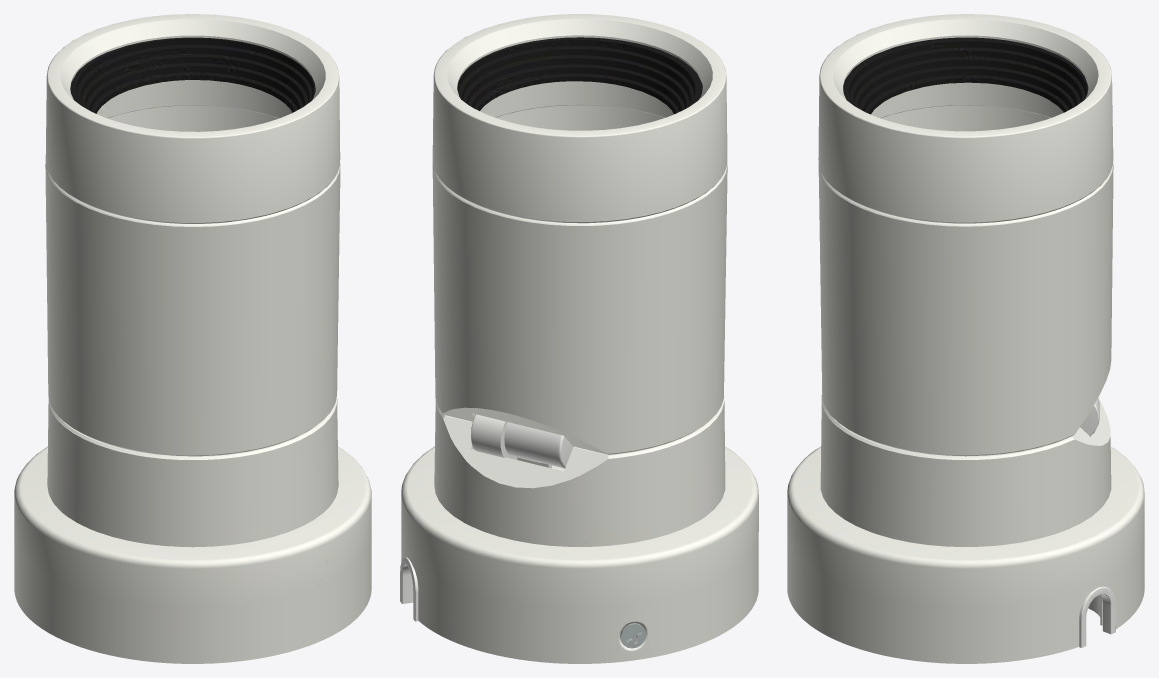
Rendered from nymane_reflektor_sufitowy_00424787.glb.
3 views of the same model, side by side, from view 1: azimuth 30°, elevation 25°; view 2: azimuth 150°, elevation 25°; view 3: azimuth 270°, elevation 25° (orthographic).
Parts seen in each view (by area): view 1: nymane_reflektor_sufitowy_00424787; view 2: nymane_reflektor_sufitowy_00424787; view 3: nymane_reflektor_sufitowy_00424787.
Part boxes in pixels (<box>): nymane_reflektor_sufitowy_00424787: <box>14,14,371,663</box>; nymane_reflektor_sufitowy_00424787: <box>400,14,758,663</box>; nymane_reflektor_sufitowy_00424787: <box>787,14,1144,663</box>.
Bounding box in the file's own units: 0.08 × 0.1268 × 0.08.
Materials: 1 (1 with a texture image).
